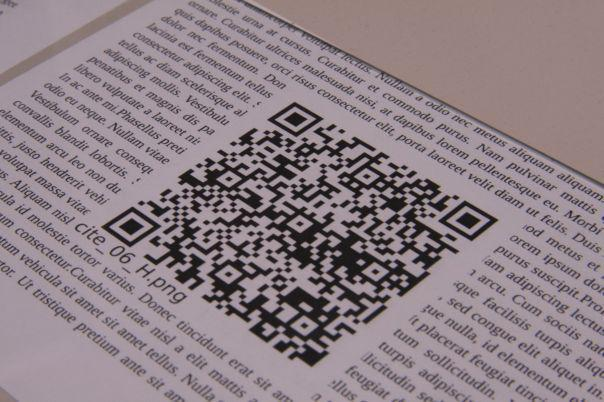qr_code: (101, 101, 499, 368)
